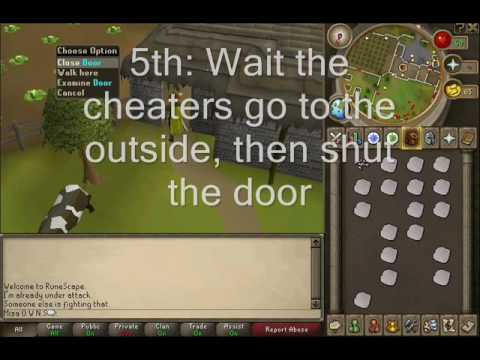rs_cow: (39, 179, 97, 235)
